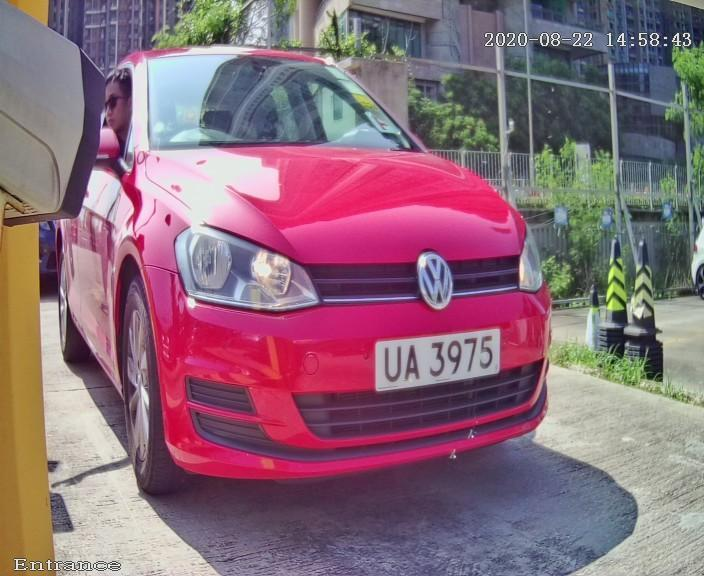Car: (38, 11, 607, 533)
License Plate: (346, 298, 546, 413)
